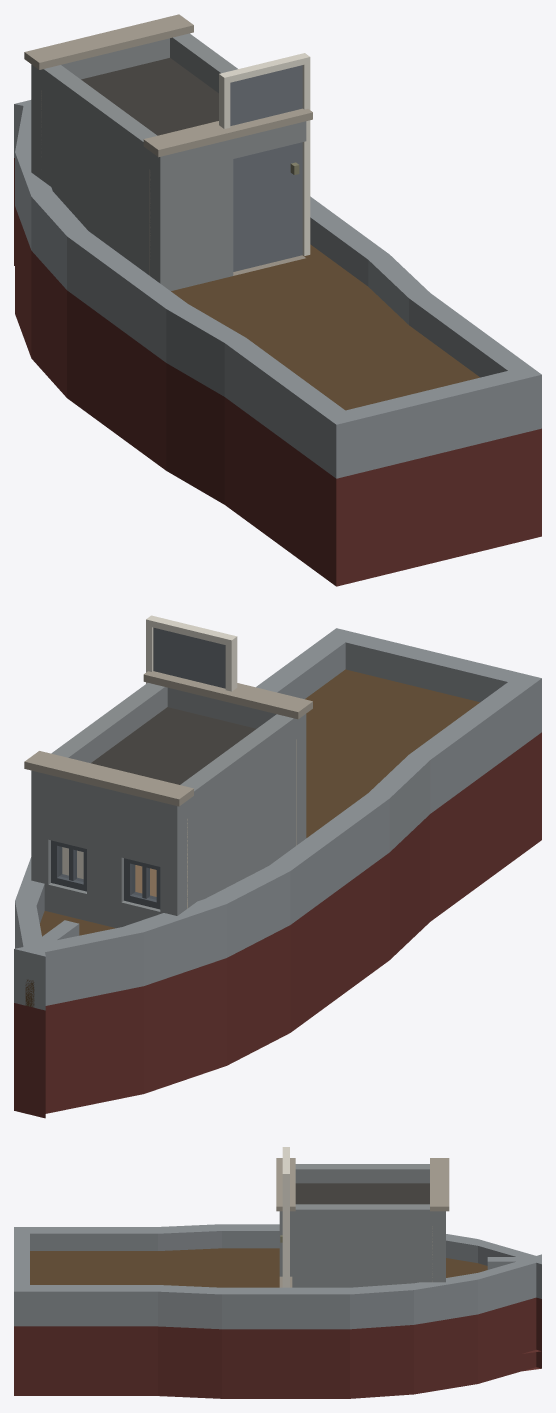
The model's file is launch.glb.
The picture shows the model from 3 angles, top to bottom: view 1: azimuth 30°, elevation 25°; view 2: azimuth 150°, elevation 25°; view 3: azimuth 270°, elevation 25°; orthographic projection. The views are drawn at different scales.
Parts seen in each view (by area): view 1: LOD0, LEAF0; view 2: LOD0, LEAF0; view 3: LOD0.
Boxes of the visible parts, left/top/right/bottom form: LOD0: left=14, top=14, right=541, bottom=586; LEAF0: left=230, top=65, right=302, bottom=271; LOD0: left=14, top=615, right=541, bottom=1118; LEAF0: left=153, top=627, right=225, bottom=688; LOD0: left=14, top=1147, right=541, bottom=1398.
Size of what is drawn, in the model's own units: 2.6 by 3.7 by 8.25.
